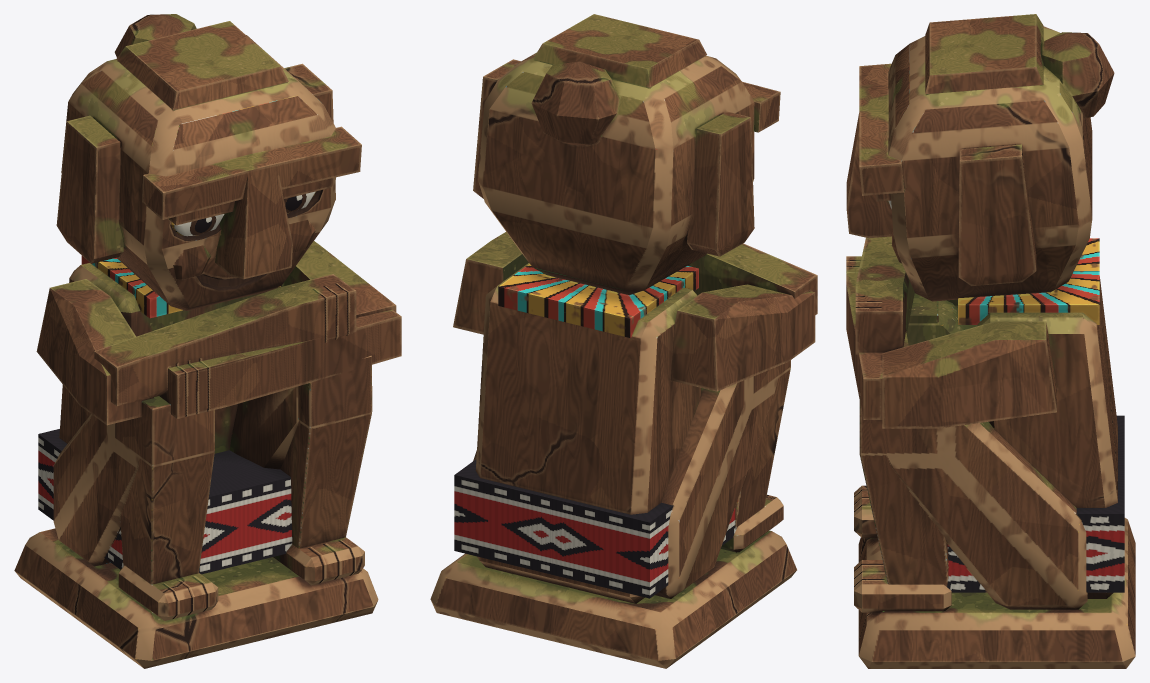
The model's file is bulul_small_f.glb.
3 renders of one model, left to right at view 1: azimuth 30°, elevation 25°; view 2: azimuth 150°, elevation 25°; view 3: azimuth 270°, elevation 25°, orthographic. The views are drawn at different scales.
Parts seen in each view (by area): view 1: bulul_small_f; view 2: bulul_small_f; view 3: bulul_small_f.
Boxes of the visible parts, x1=… form: bulul_small_f: x1=14, y1=14, x2=401, y2=668; bulul_small_f: x1=430, y1=14, x2=817, y2=668; bulul_small_f: x1=846, y1=14, x2=1135, y2=668.
Bounding box in the file's own units: 0.6229 × 1.14 × 0.5186.
1 material, 1 textured.
